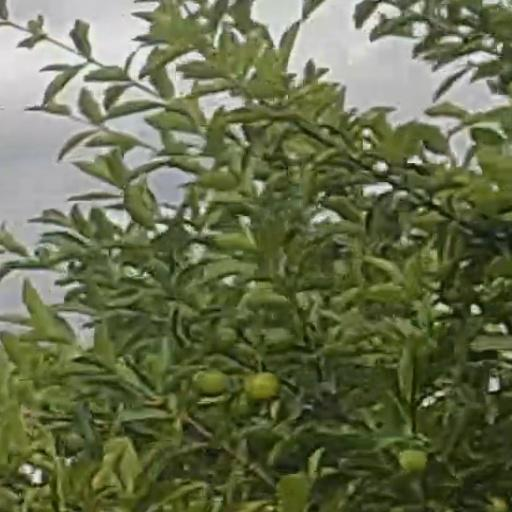acerola: (190, 367, 224, 397), (244, 371, 278, 399)
